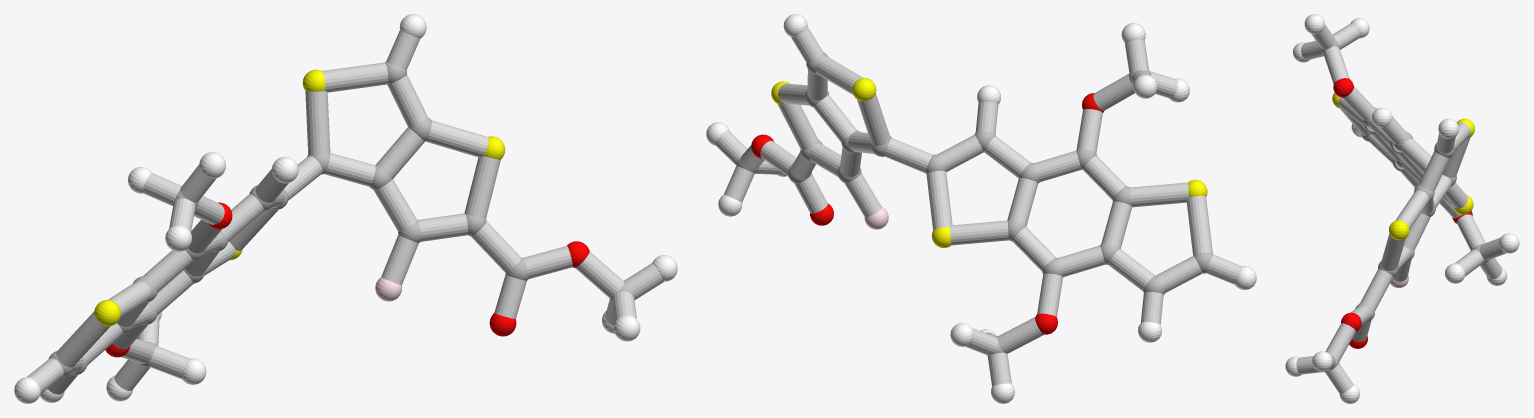
The model's file is color.glb.
3 views of the same model, side by side, from view 1: azimuth 30°, elevation 25°; view 2: azimuth 150°, elevation 25°; view 3: azimuth 270°, elevation 25° (orthographic). The views are drawn at different scales.
Visible parts, largest first — view 1: grp15205, grp8689, grp1, grp7241, grp13395; view 2: grp15205, grp8689, grp1, grp7241, grp13395; view 3: grp15205, grp8689, grp1, grp13395, grp7241.
Part boxes in pixels (x1=…): grp15205: x1=27, y1=30, x2=663, y2=394; grp8689: x1=14, y1=14, x2=677, y2=403; grp1: x1=48, y1=61, x2=634, y2=376; grp7241: x1=94, y1=69, x2=505, y2=326; grp13395: x1=105, y1=202, x2=589, y2=357; grp15205: x1=715, y1=27, x2=1241, y2=386; grp8689: x1=706, y1=14, x2=1256, y2=403; grp1: x1=736, y1=52, x2=1213, y2=355; grp7241: x1=771, y1=78, x2=1207, y2=247; grp13395: x1=751, y1=93, x2=1103, y2=334; grp15205: x1=1296, y1=23, x2=1506, y2=393; grp8689: x1=1285, y1=14, x2=1519, y2=403; grp1: x1=1320, y1=39, x2=1488, y2=372; grp13395: x1=1333, y1=78, x2=1472, y2=348; grp7241: x1=1332, y1=92, x2=1474, y2=240.
Bounding box in the file's own units: 16.32 × 8.46 × 6.82.
